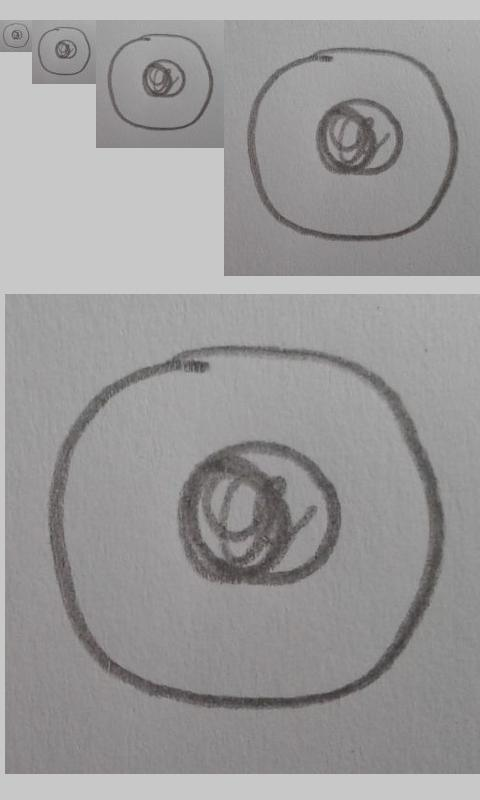radio_button: (47, 342, 445, 713), (247, 46, 460, 244), (108, 33, 214, 131), (37, 26, 92, 76), (2, 22, 30, 49)
